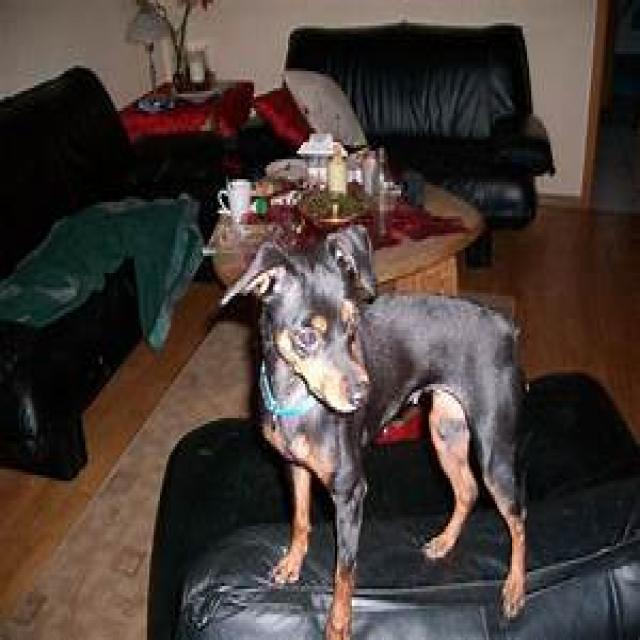dog: (220, 225, 531, 640)
